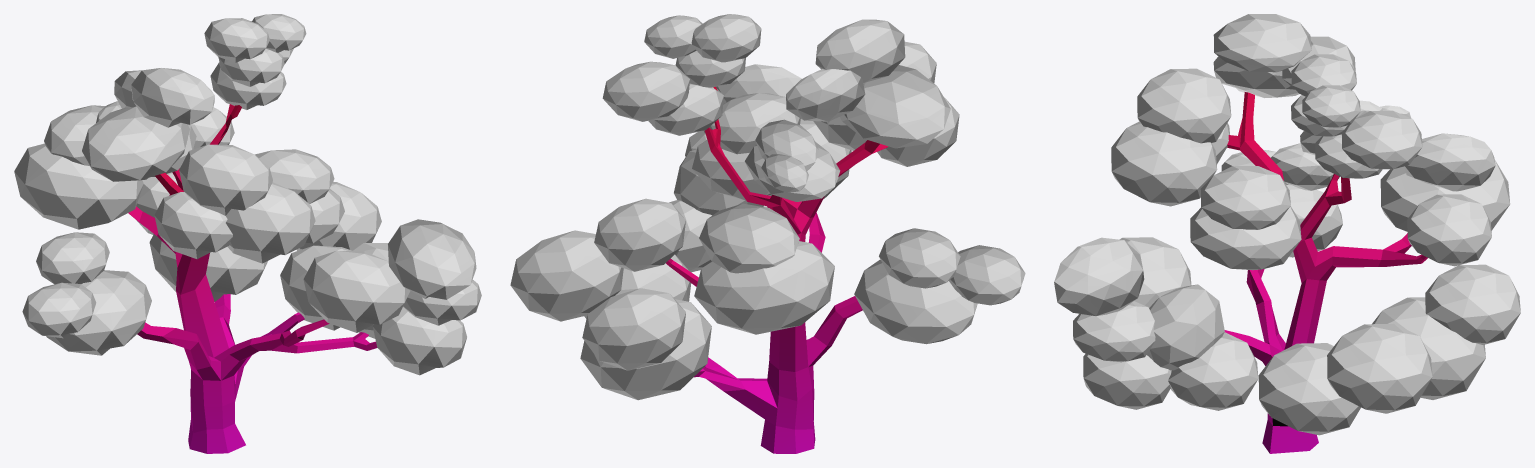
File: Hon-Tree2.fbx
The picture shows the model from 3 angles, left to right: view 1: azimuth 30°, elevation 25°; view 2: azimuth 150°, elevation 25°; view 3: azimuth 270°, elevation 25°; orthographic projection. The views are drawn at different scales.
Visible parts, largest first — view 1: PA_TreeSet1_Pile3.055, PA_TreeSet1_Pile3.001; view 2: PA_TreeSet1_Pile3.055, PA_TreeSet1_Pile3.001; view 3: PA_TreeSet1_Pile3.055, PA_TreeSet1_Pile3.001.
Boxes of the visible parts, x1,y1,x2,y2 form: PA_TreeSet1_Pile3.055: [14, 14, 481, 375]; PA_TreeSet1_Pile3.001: [128, 104, 377, 453]; PA_TreeSet1_Pile3.055: [510, 14, 1025, 400]; PA_TreeSet1_Pile3.001: [666, 86, 887, 453]; PA_TreeSet1_Pile3.055: [1054, 14, 1520, 435]; PA_TreeSet1_Pile3.001: [1224, 92, 1427, 453].
Bounding box in the file's own units: 942 × 883 × 930.
